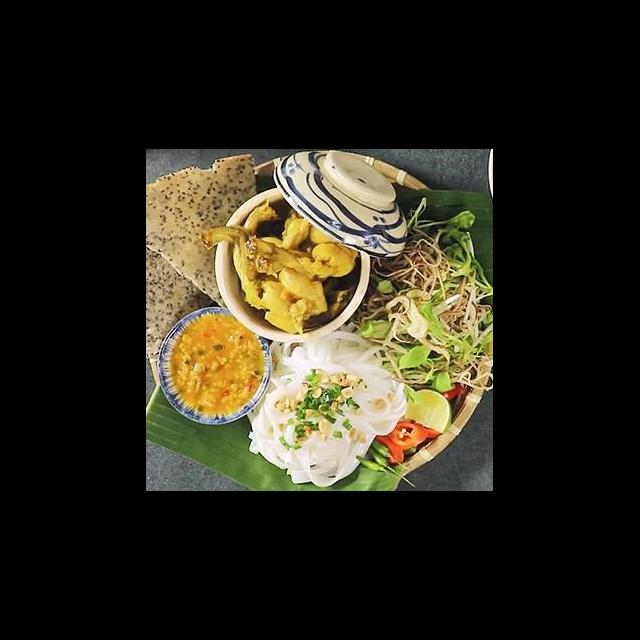banh da: (148, 152, 268, 311), (148, 241, 224, 365)
mi: (242, 330, 412, 491)
